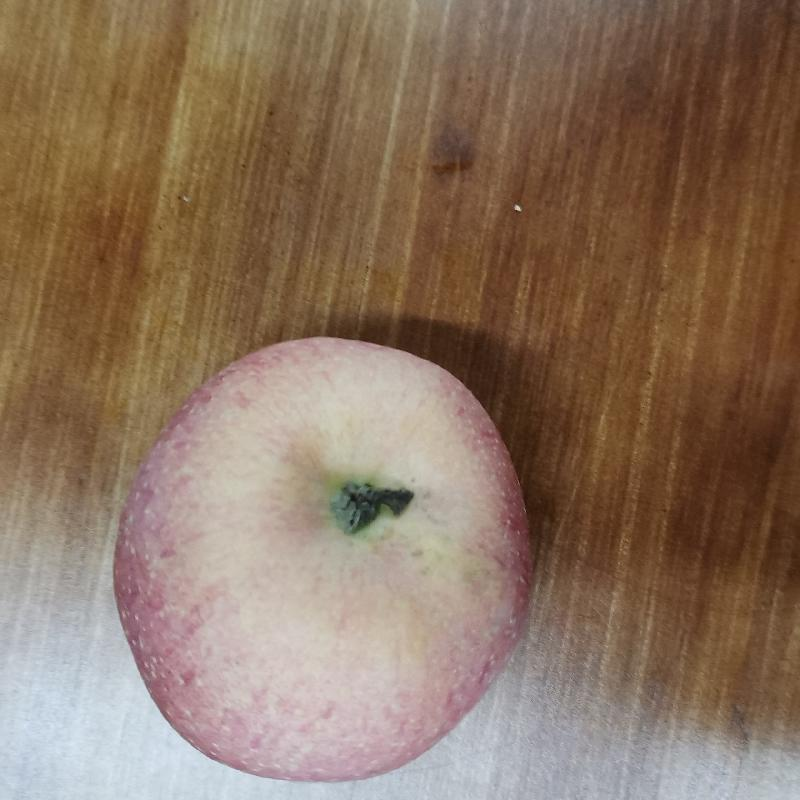apples: (109, 334, 549, 792)
